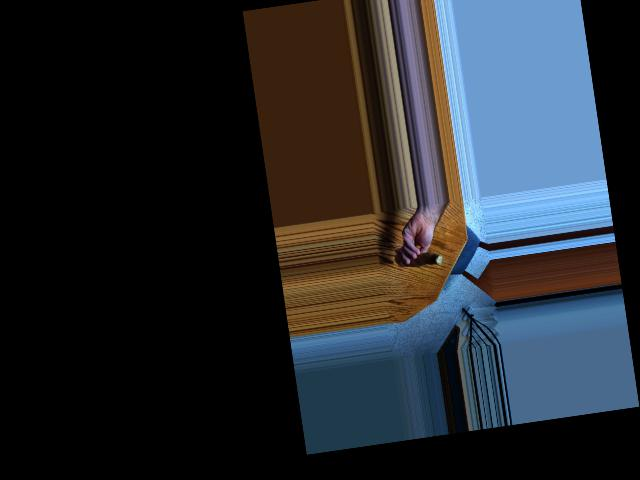sweet_potato: (394, 244, 445, 272)
